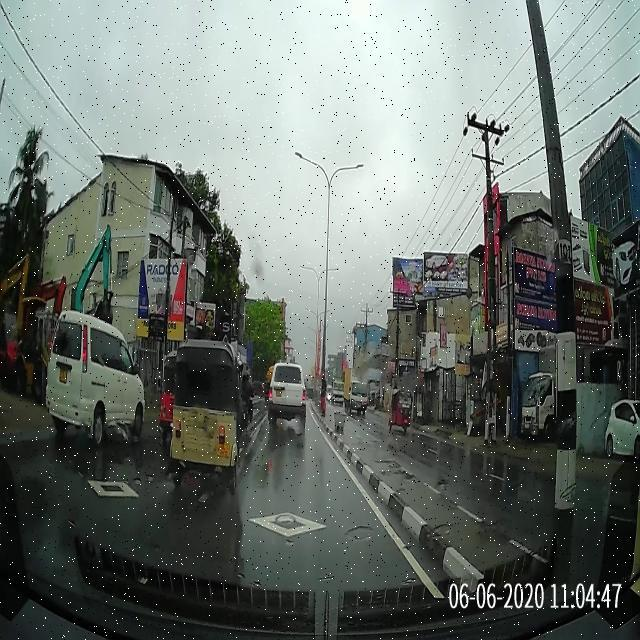diamond: (193, 511, 400, 539)
